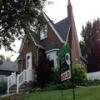chimneys: (67, 0, 73, 18)
